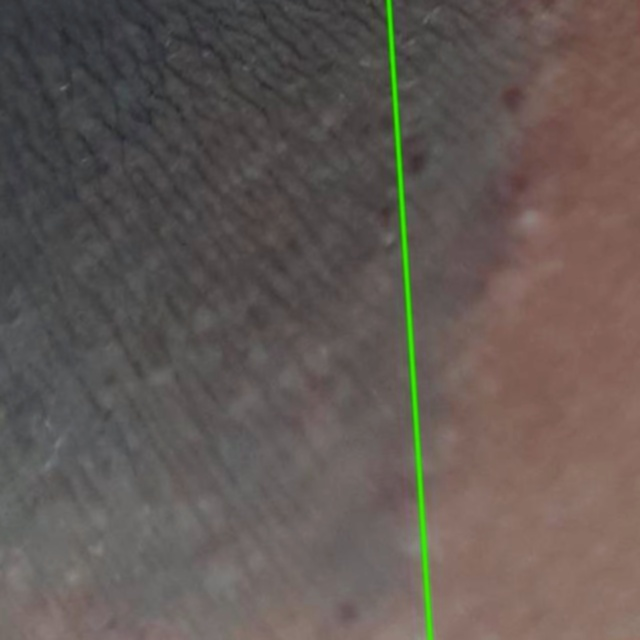Tinea Corporis: (388, 0, 639, 639)
